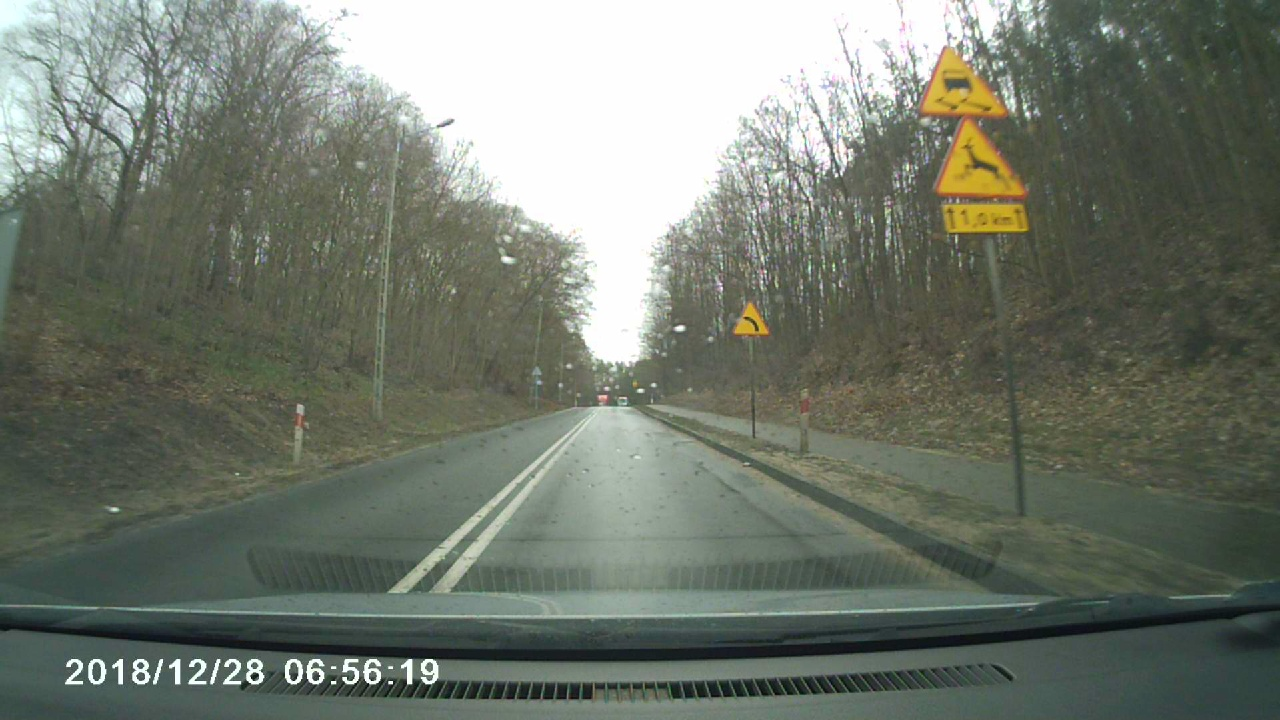A2: (727, 297, 775, 345)
